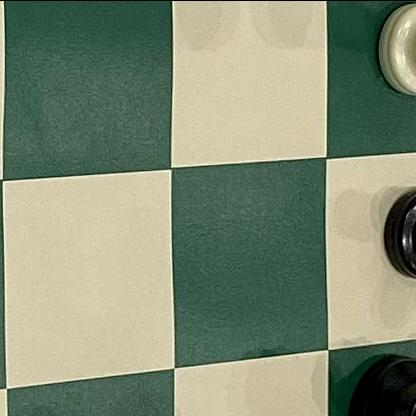black-pawn: (367, 173, 416, 291)
white-pawn: (371, 0, 416, 104)
